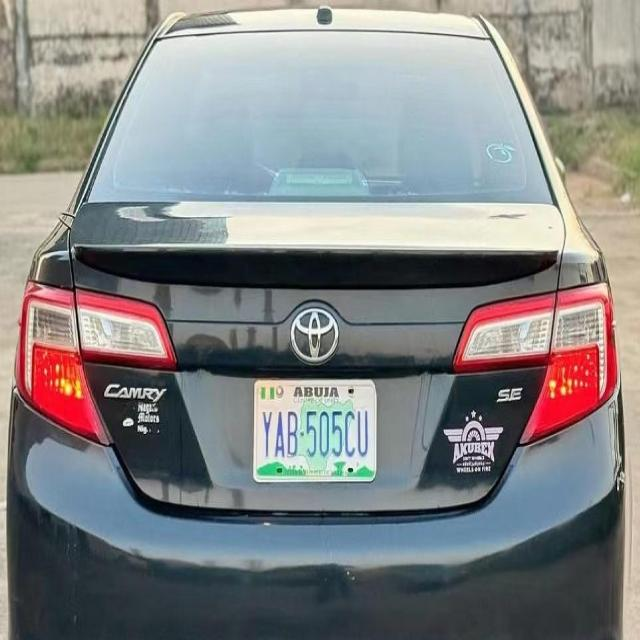Nigerian License Plate - vdataset benjamin-daria: (250, 376, 380, 486)
